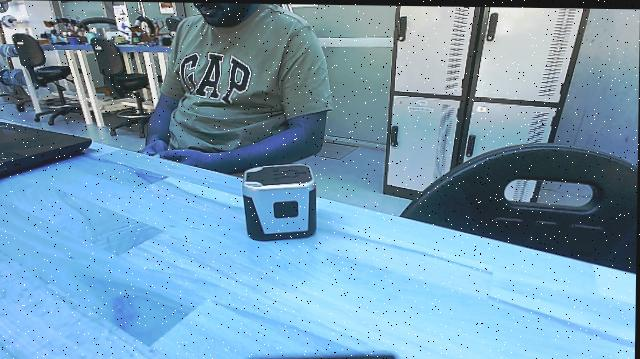adapter: (239, 157, 326, 249)
